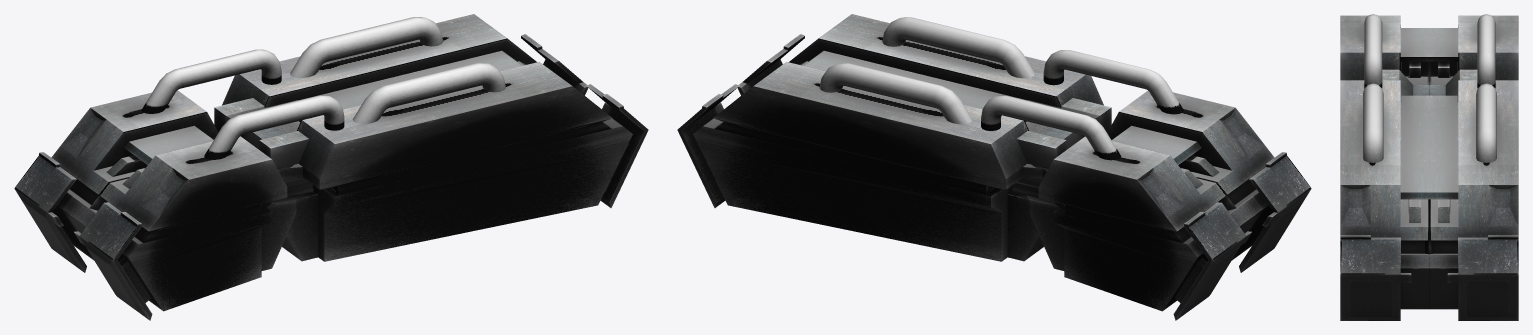
Rendered from six_wheel.dae.
3 views of the same model, side by side, from view 1: azimuth 30°, elevation 25°; view 2: azimuth 150°, elevation 25°; view 3: azimuth 270°, elevation 25° (orthographic). The views are drawn at different scales.
Parts seen in each view (by area): view 1: Cube.013; view 2: Cube.013; view 3: Cube.013.
Boxes of the visible parts, x1,y1,x2,y2 form: Cube.013: (14,14,648,320); Cube.013: (677,14,1311,320); Cube.013: (1340,14,1518,320).
Bounding box in the file's own units: 8.22 × 2.62 × 2.42.
